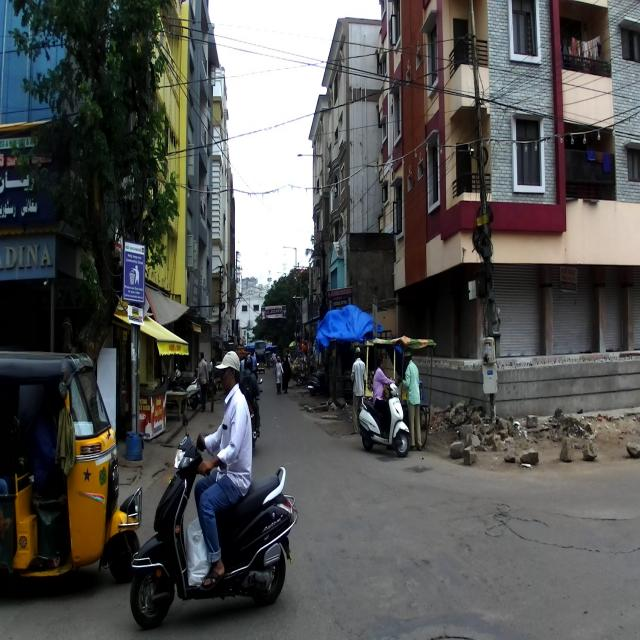autorickshaw: (0, 348, 141, 584)
scooter: (129, 412, 298, 630), (358, 382, 410, 456)
